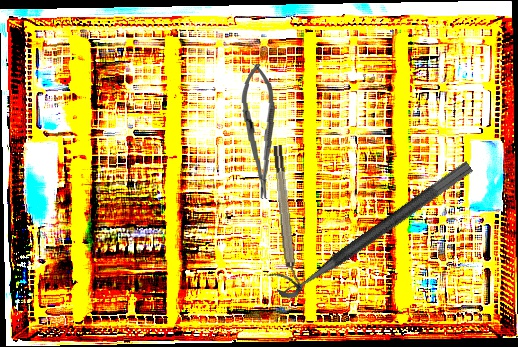Fixation Ring: (266, 144, 475, 304), (270, 144, 304, 294)
Needle Holder: (239, 63, 280, 200)
